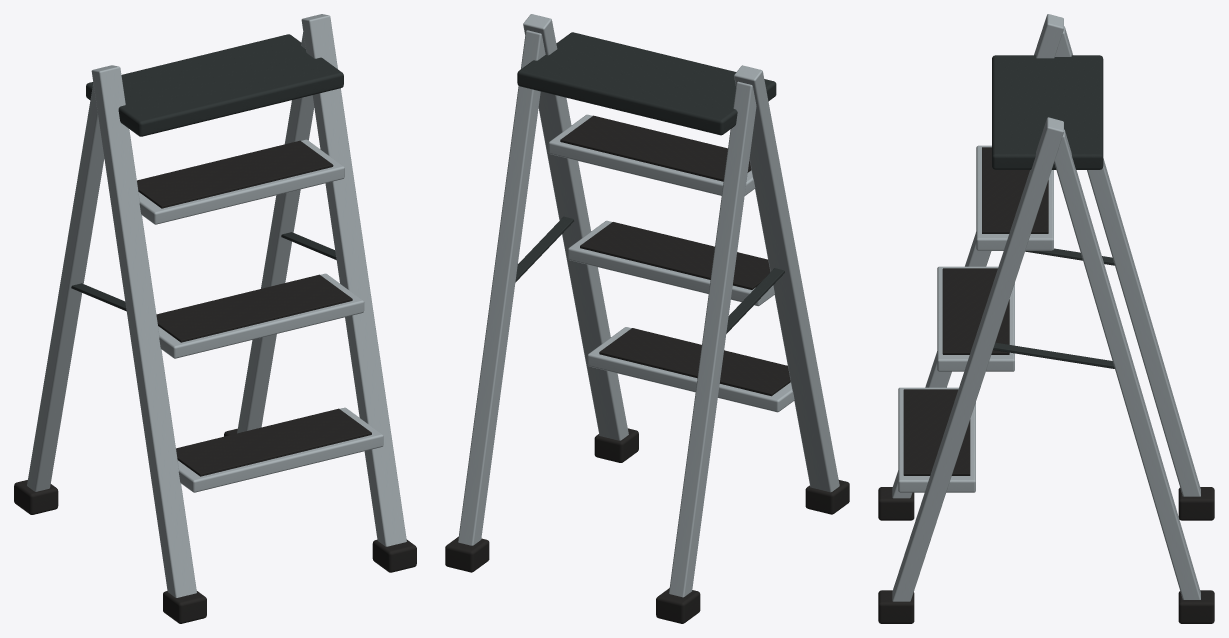
The model's file is folding-step-ladder.glb.
3 views of the same model, side by side, from view 1: azimuth 30°, elevation 25°; view 2: azimuth 150°, elevation 25°; view 3: azimuth 270°, elevation 25° (orthographic).
Parts seen in each view (by area): view 1: Front ladder rail, Front ladder rail.001, Ladder upper platform, Rear folding leg, Step traction tread.002, Step traction tread.001, Step traction tread, Rear folding leg.001, Wide ladder step.001, Wide ladder step.002, Wide ladder step, Ladder protective shoe.002 (+2 smaller); view 2: Ladder upper platform, Rear folding leg, Front ladder rail, Rear folding leg.001, Front ladder rail.001, Step traction tread.002, Step traction tread, Step traction tread.001, Wide ladder step, Wide ladder step.002, Wide ladder step.001, Ladder protective shoe.003 (+5 smaller); view 3: Ladder upper platform, Front ladder rail.001, Rear folding leg.001, Rear folding leg, Step traction tread, Step traction tread.001, Step traction tread.002, Wide ladder step, Front ladder rail, Wide ladder step.001, Wide ladder step.002, Ladder protective shoe.001 (+4 smaller).
Boxes of the visible parts, bbox=[...] form: Front ladder rail: bbox=[91, 65, 196, 597]; Front ladder rail.001: bbox=[301, 14, 406, 546]; Ladder upper platform: bbox=[86, 34, 343, 136]; Rear folding leg: bbox=[27, 83, 104, 491]; Step traction tread.002: bbox=[137, 140, 333, 208]; Step traction tread.001: bbox=[156, 274, 352, 342]; Step traction tread: bbox=[176, 408, 371, 476]; Rear folding leg.001: bbox=[237, 32, 314, 433]; Wide ladder step.001: bbox=[158, 273, 364, 358]; Wide ladder step.002: bbox=[138, 139, 344, 224]; Wide ladder step: bbox=[177, 407, 383, 492]; Ladder protective shoe.002: bbox=[372, 539, 416, 572]; Ladder upper platform: bbox=[517, 32, 776, 135]; Rear folding leg: bbox=[669, 81, 756, 597]; Front ladder rail: bbox=[734, 65, 839, 492]; Rear folding leg.001: bbox=[458, 30, 545, 545]; Front ladder rail.001: bbox=[523, 14, 628, 440]; Step traction tread.002: bbox=[560, 115, 751, 181]; Step traction tread: bbox=[599, 328, 790, 396]; Step traction tread.001: bbox=[580, 222, 770, 289]; Wide ladder step: bbox=[587, 327, 794, 412]; Wide ladder step.002: bbox=[548, 114, 755, 195]; Wide ladder step.001: bbox=[568, 220, 774, 306]; Ladder protective shoe.003: bbox=[445, 537, 489, 572]; Ladder upper platform: bbox=[992, 55, 1103, 169]; Front ladder rail.001: bbox=[892, 117, 1063, 601]; Rear folding leg.001: bbox=[1054, 129, 1200, 599]; Rear folding leg: bbox=[1055, 26, 1200, 496]; Step traction tread: bbox=[903, 389, 970, 475]; Step traction tread.001: bbox=[942, 268, 1009, 354]; Step traction tread.002: bbox=[982, 147, 1048, 233]; Wide ladder step: bbox=[898, 387, 975, 492]; Front ladder rail: bbox=[892, 14, 1063, 498]; Wide ladder step.001: bbox=[937, 266, 1014, 371]; Wide ladder step.002: bbox=[976, 145, 1053, 250]; Ladder protective shoe.001: bbox=[1178, 487, 1214, 520].
Bounding box in the file's own units: 0.5 × 0.9843 × 0.605.
Materials: 3 (3 with a texture image).
